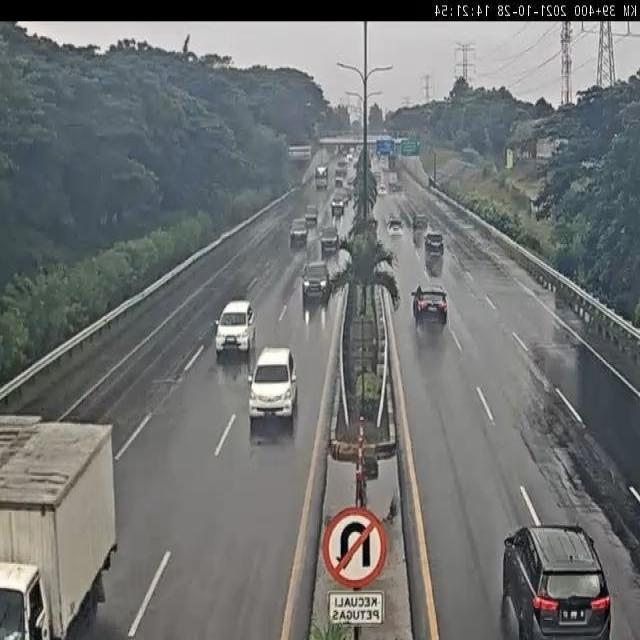Bus: (315, 165, 329, 189)
Car: (501, 525, 611, 640), (247, 345, 298, 421), (215, 298, 258, 356), (411, 282, 450, 326), (302, 260, 331, 304), (288, 217, 310, 247), (318, 226, 341, 253), (422, 232, 446, 256), (386, 216, 404, 236), (330, 195, 346, 217), (304, 205, 319, 226), (414, 213, 428, 232), (377, 184, 388, 196)
Truck: (0, 418, 118, 640), (334, 168, 344, 186), (389, 172, 399, 187)
